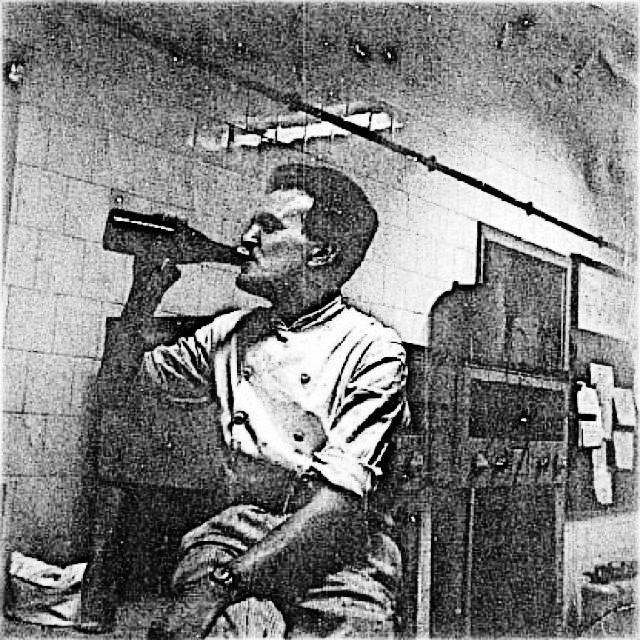Person: (168, 157, 413, 640)
